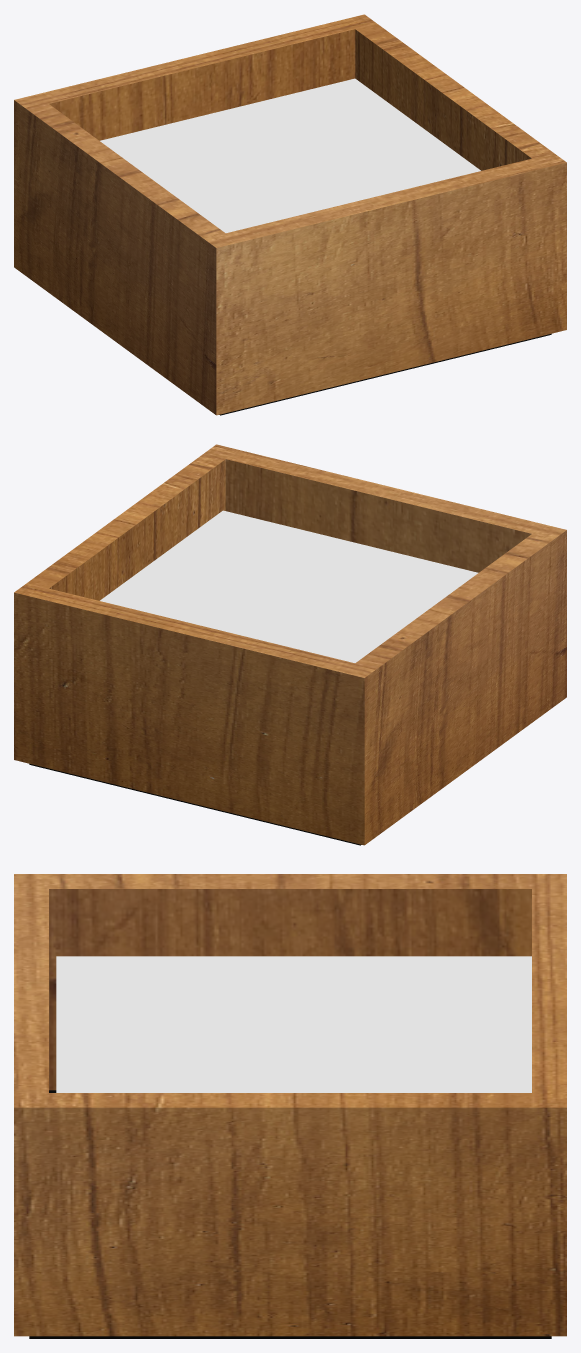
The model's file is WaterCymatic.glb.
3 renders of one model, top to bottom at view 1: azimuth 30°, elevation 25°; view 2: azimuth 150°, elevation 25°; view 3: azimuth 270°, elevation 25°, orthographic. The views are drawn at different scales.
Parts seen in each view (by area): view 1: Cube, Water; view 2: Cube, Water; view 3: Cube, Water.
Part boxes in pixels (x1,y1,x2,y2): Cube: (14, 14, 566, 415); Water: (100, 78, 480, 232); Cube: (14, 444, 566, 845); Water: (100, 510, 478, 662); Cube: (14, 874, 566, 1338); Water: (56, 956, 531, 1092).
Bounding box in the file's own units: 6.74 × 3.19 × 6.74.
Materials: 3 (1 with a texture image).
